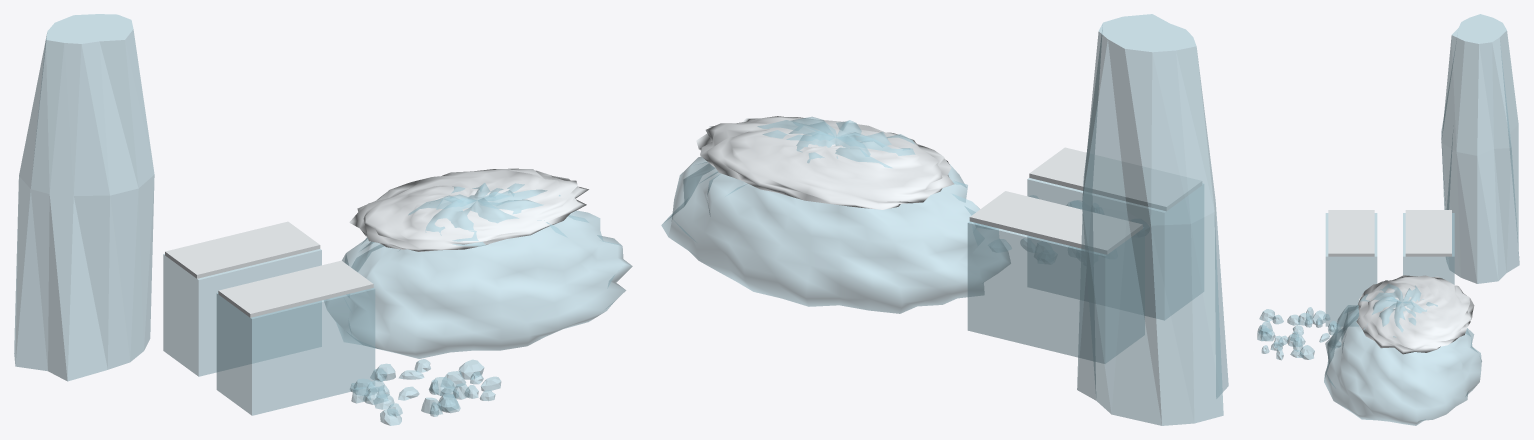
File: alpine-and-arctic-biomes-glacier-snout-field-e2000584__21066.glb
3 views of the same model, side by side, from view 1: azimuth 30°, elevation 25°; view 2: azimuth 150°, elevation 25°; view 3: azimuth 270°, elevation 25° (orthographic). The views are drawn at different scales.
Visible parts, largest first — view 1: 003-serac/0, 002-glacier-snout/0, 001-crevasse-block/0, 002-glacier-snout/1, 000-crevasse-block/0, 001-crevasse-block/1, 000-crevasse-block/1; view 2: 003-serac/0, 002-glacier-snout/0, 000-crevasse-block/0, 002-glacier-snout/1, 001-crevasse-block/0, 000-crevasse-block/1, 001-crevasse-block/1; view 3: 003-serac/0, 002-glacier-snout/0, 002-glacier-snout/1, 001-crevasse-block/0, 000-crevasse-block/1, 001-crevasse-block/1, 000-crevasse-block/0.
Boxes of the visible parts, x1=… form: 003-serac/0: x1=14, y1=14, x2=154, y2=381; 002-glacier-snout/0: x1=324, y1=183, x2=632, y2=358; 001-crevasse-block/0: x1=216, y1=288, x2=375, y2=415; 002-glacier-snout/1: x1=349, y1=168, x2=588, y2=251; 000-crevasse-block/0: x1=163, y1=249, x2=321, y2=376; 001-crevasse-block/1: x1=218, y1=260, x2=373, y2=317; 000-crevasse-block/1: x1=165, y1=221, x2=320, y2=278; 003-serac/0: x1=1077, y1=14, x2=1228, y2=425; 002-glacier-snout/0: x1=661, y1=116, x2=1010, y2=313; 000-crevasse-block/0: x1=967, y1=221, x2=1144, y2=363; 002-glacier-snout/1: x1=696, y1=116, x2=954, y2=209; 001-crevasse-block/0: x1=1027, y1=178, x2=1203, y2=320; 000-crevasse-block/1: x1=969, y1=191, x2=1142, y2=254; 001-crevasse-block/1: x1=1029, y1=147, x2=1201, y2=210; 003-serac/0: x1=1441, y1=14, x2=1519, y2=283; 002-glacier-snout/0: x1=1324, y1=283, x2=1481, y2=425; 002-glacier-snout/1: x1=1356, y1=275, x2=1474, y2=354; 001-crevasse-block/0: x1=1325, y1=213, x2=1377, y2=326; 000-crevasse-block/1: x1=1405, y1=210, x2=1451, y2=256; 001-crevasse-block/1: x1=1328, y1=210, x2=1374, y2=256; 000-crevasse-block/0: x1=1403, y1=213, x2=1454, y2=284.
Size of the model in its own units: 17.64 by 10 by 10.18.
